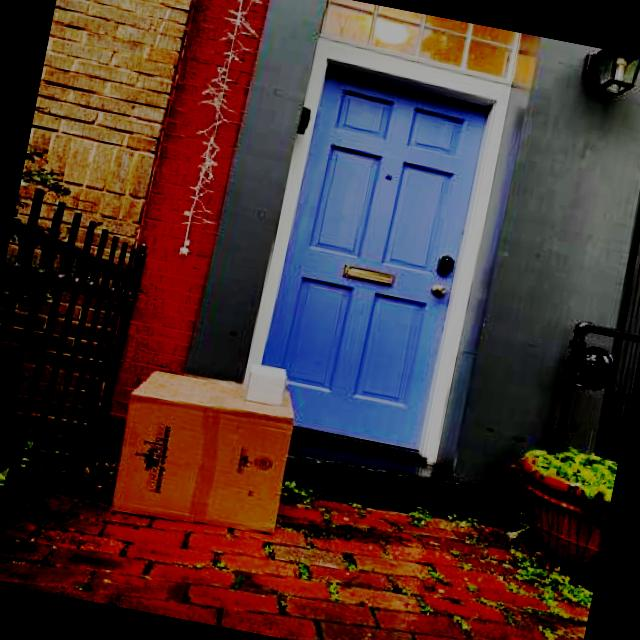Box: (104, 362, 308, 548), (238, 359, 292, 411)
